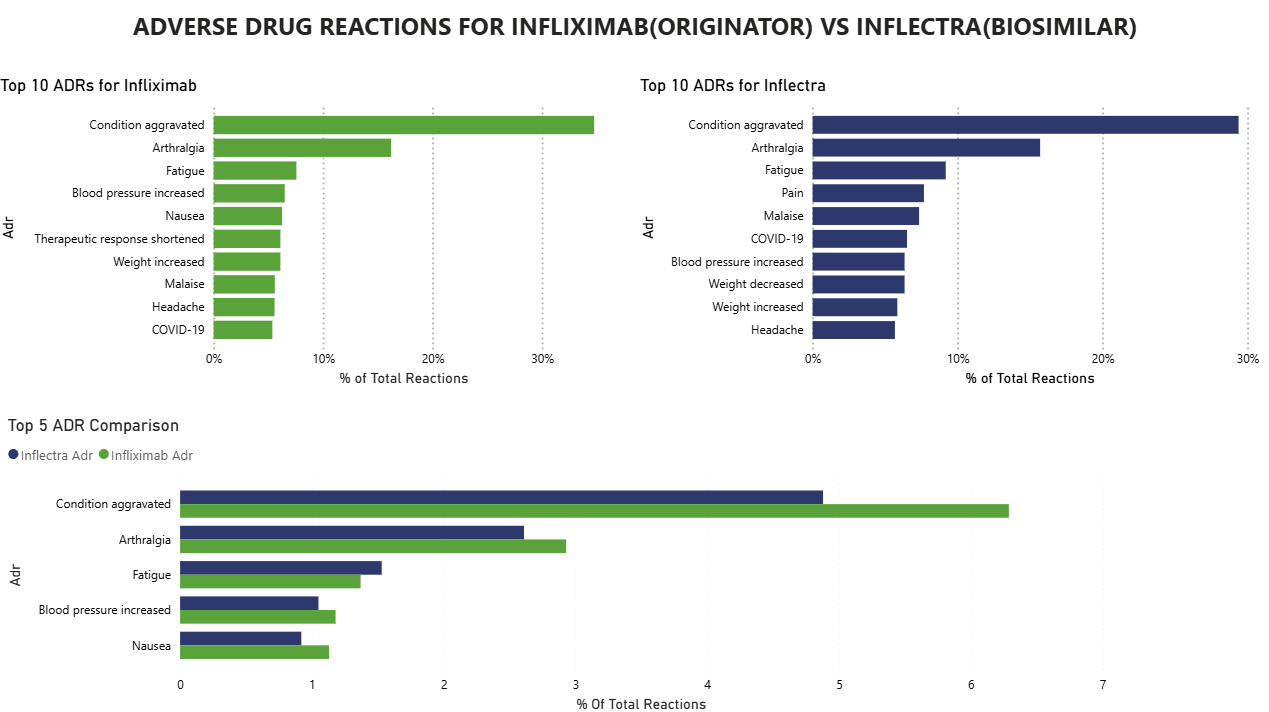

The page's visual inventory and layout, read from the dashboard file:
{"tool":"powerbi","page":{"name":"ADVERSE REACTIONS","canvas":[1280,720],"ordinal":1},"visuals":[{"type":"clusteredBarChart","title":"Top 10 ADRs for Inflectra","fields":{"Category":["reac_biosimilar.pt"],"Y":["CountNonNull(reac_biosimilar.pt)"]},"box":[639.5,78.3,629.8,316.7],"z":0},{"type":"clusteredBarChart","title":"Top 10 ADRs for Infliximab","fields":{"Category":["reac_originator.pt"],"Y":["CountNonNull(reac_originator.pt)"]},"box":[0,78.3,616.3,316.7],"z":1000},{"type":"clusteredBarChart","title":"Top 5 ADR Comparison","fields":{"Y":["Sum(reaction_comparison.biosimilar_pct)","Sum(reaction_comparison.originator_pct)"],"Category":["reaction_comparison.reaction"]},"box":[7.3,418.2,1109.1,302],"z":2000},{"type":"textbox","box":[0,8.6,1280.3,57.5],"z":2001}]}

Visuals, with their boxes in screenshot pixels (x1, y1, x2, y2), scaled from the page's 1280x720 canvas onto the 1269x712 screenshot:
"Top 10 ADRs for Inflectra" clusteredBarChart: 634:77:1258:391
"Top 10 ADRs for Infliximab" clusteredBarChart: 0:77:611:391
"Top 5 ADR Comparison" clusteredBarChart: 7:414:1107:711
textbox: 0:9:1268:65
